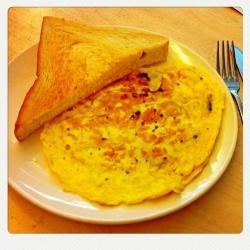bread: (26, 19, 161, 131)
omelette: (46, 70, 233, 206)
